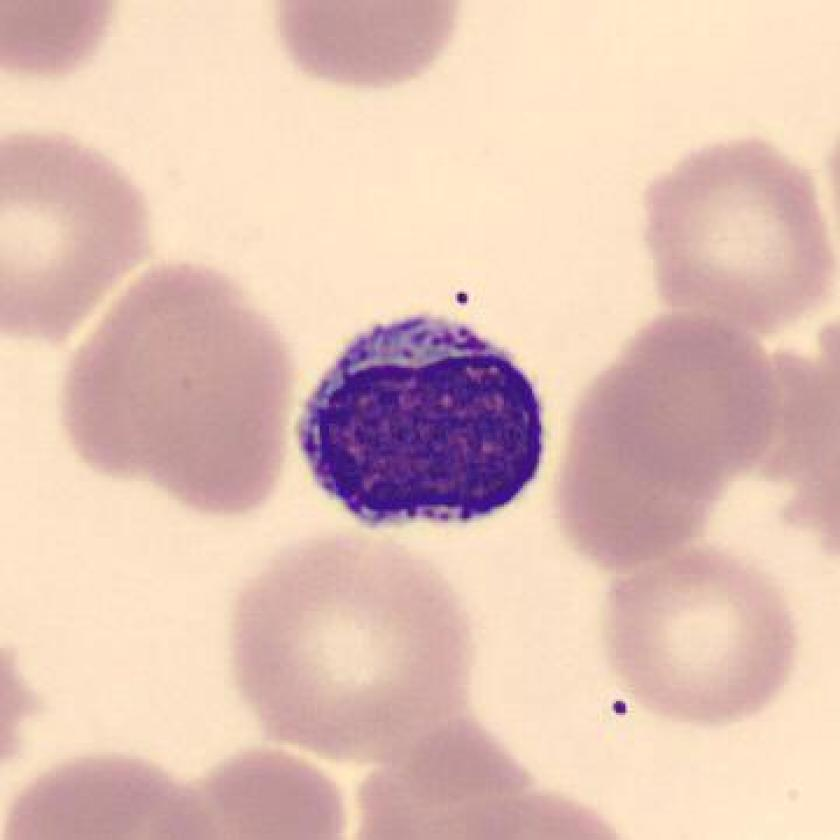lymphocyte: (293, 290, 559, 545)
